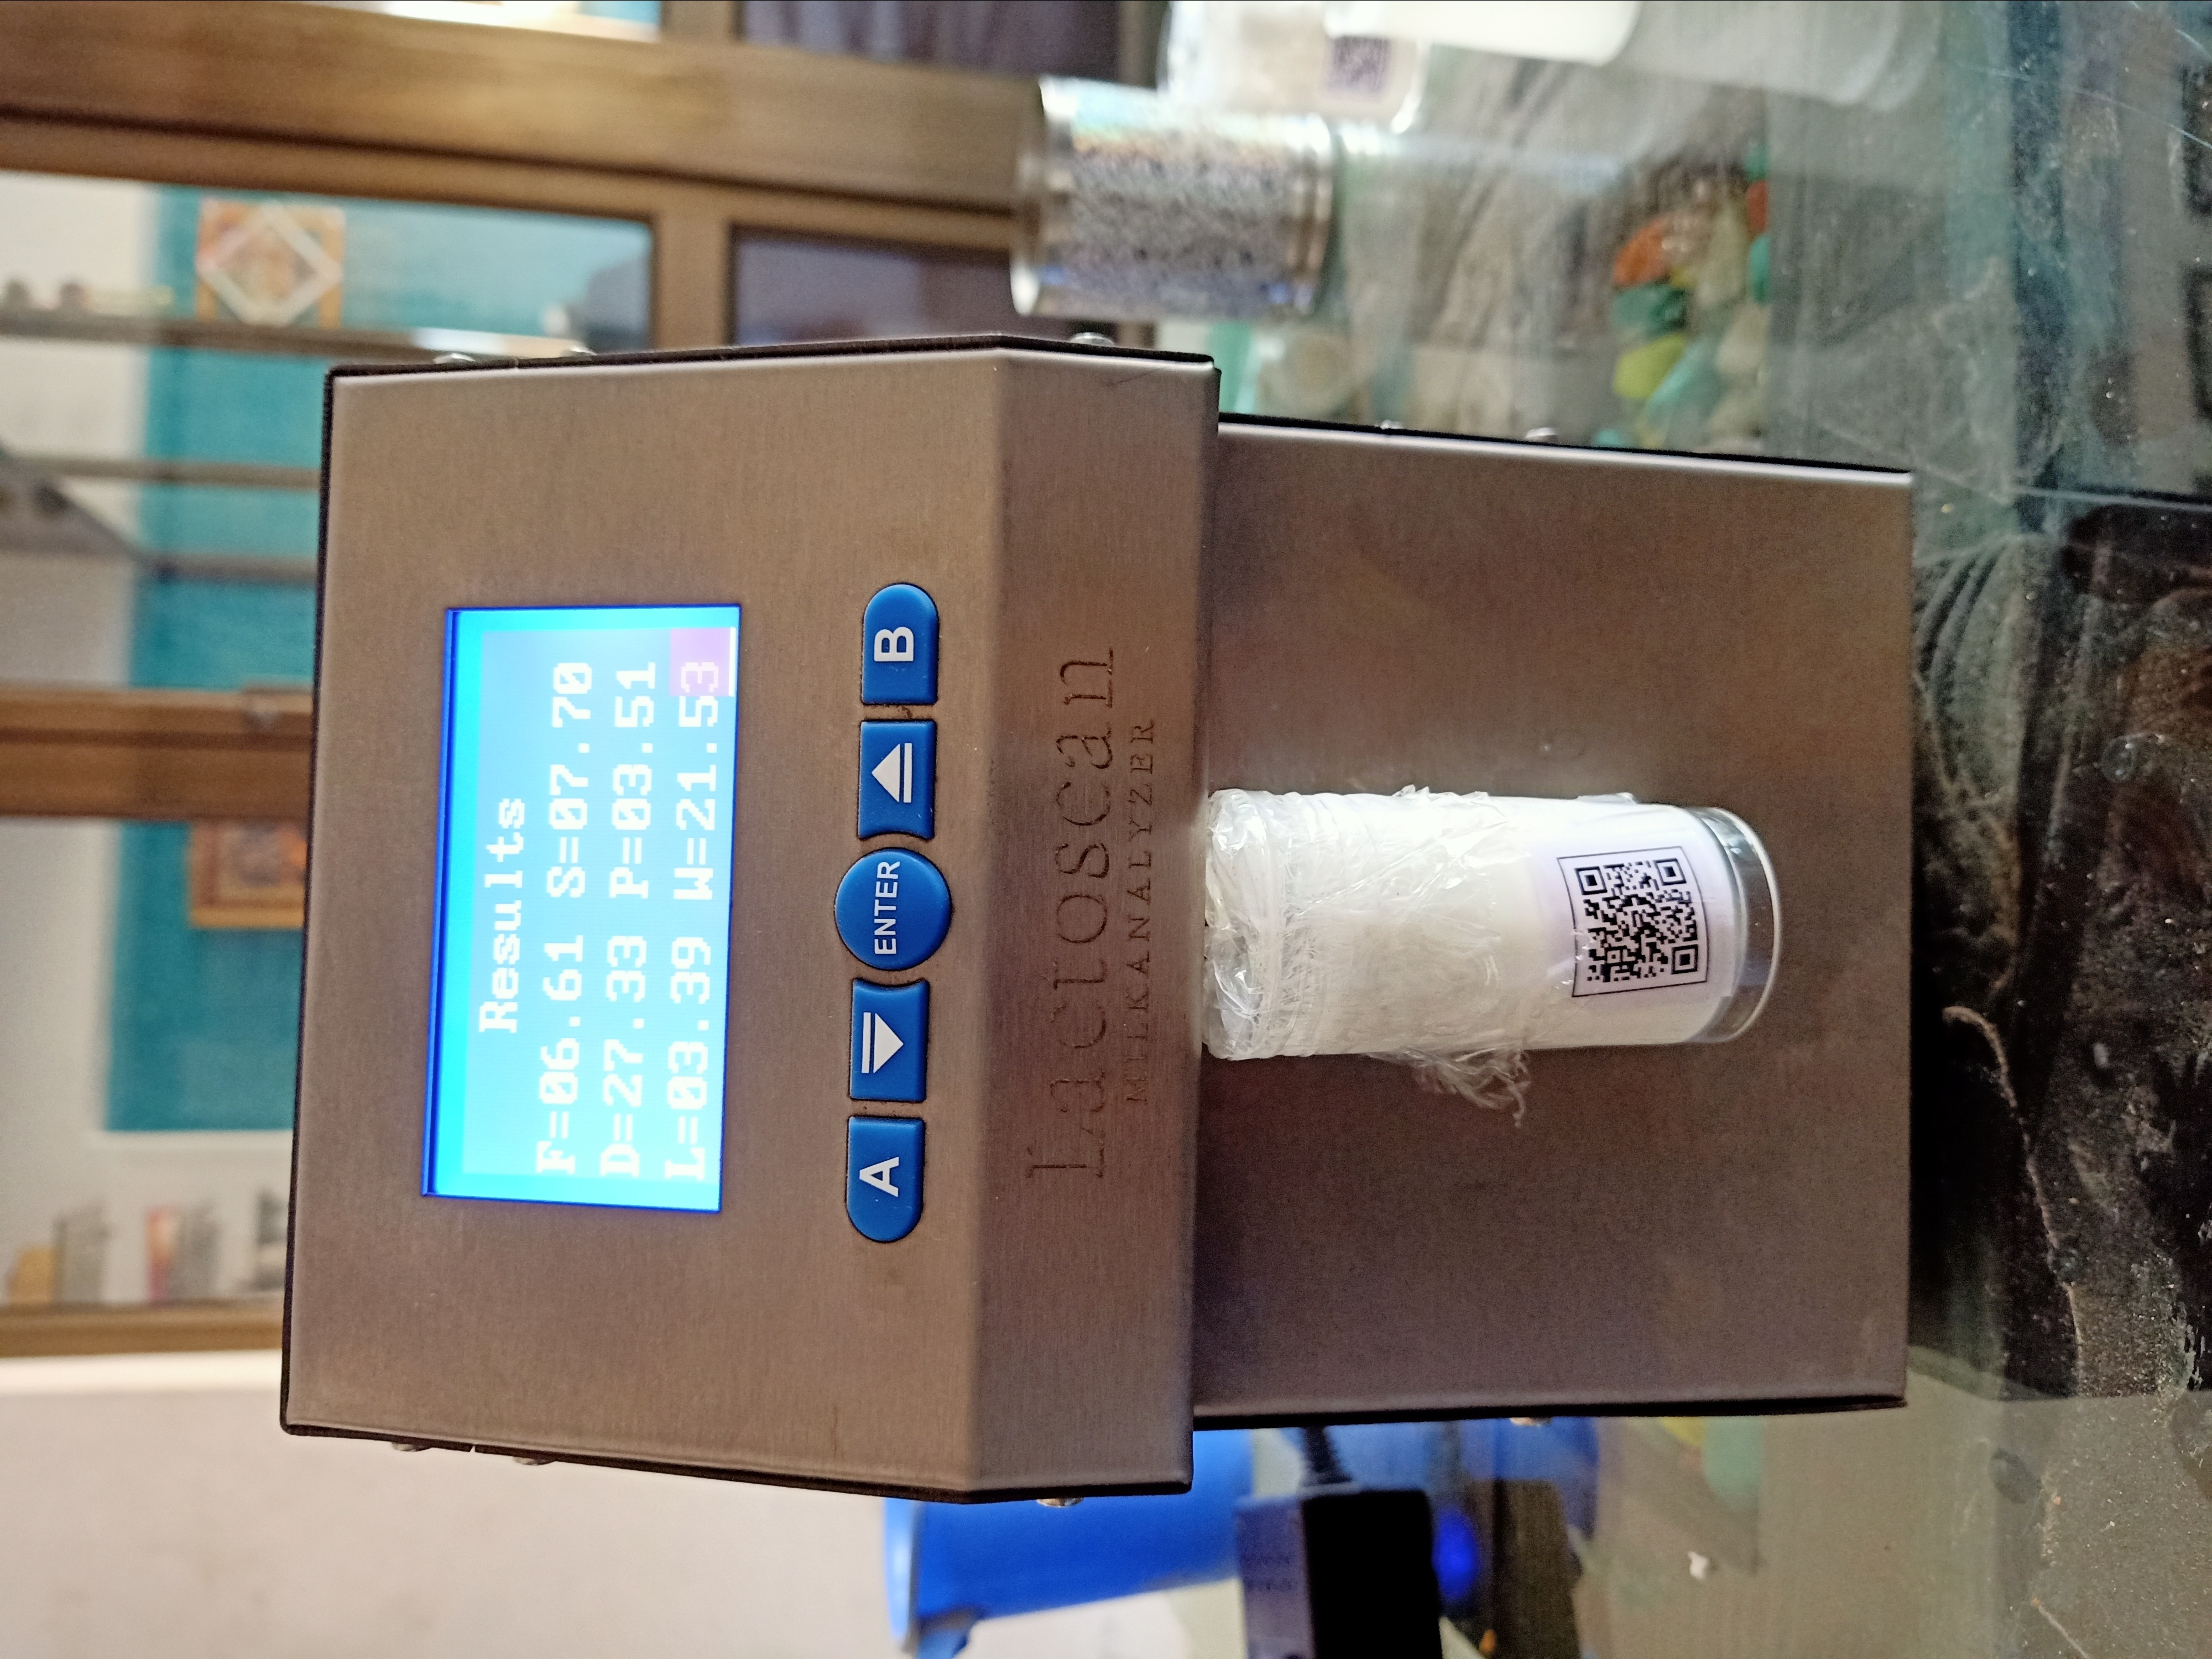lcd: (418, 587, 751, 1239)
qr: (1564, 840, 1712, 1016)
